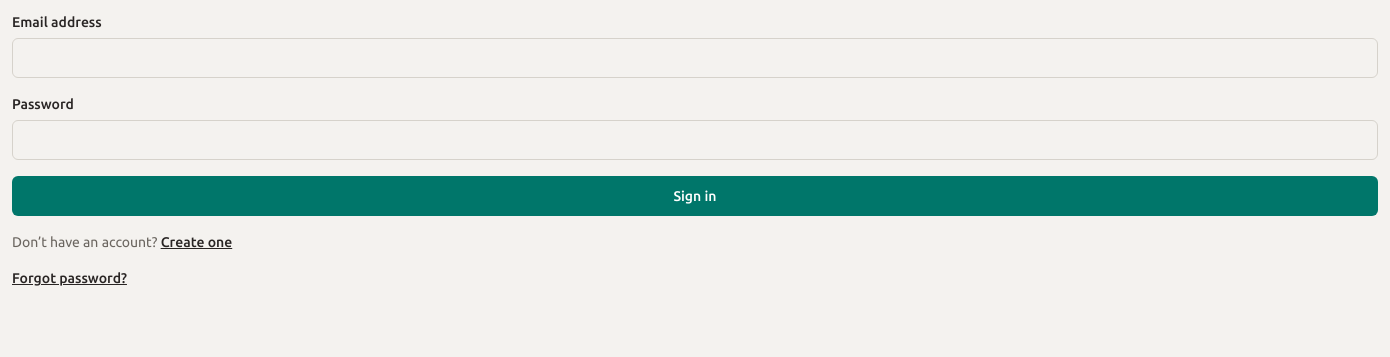
Test case: LoginForm › shows a GENERIC enumeration-safe error on any login failure (no field-specific leak)
The image size is (1390, 357).
In the field labelled "Email address": (695, 58) [12,38,1378,78], type "user@example.com"
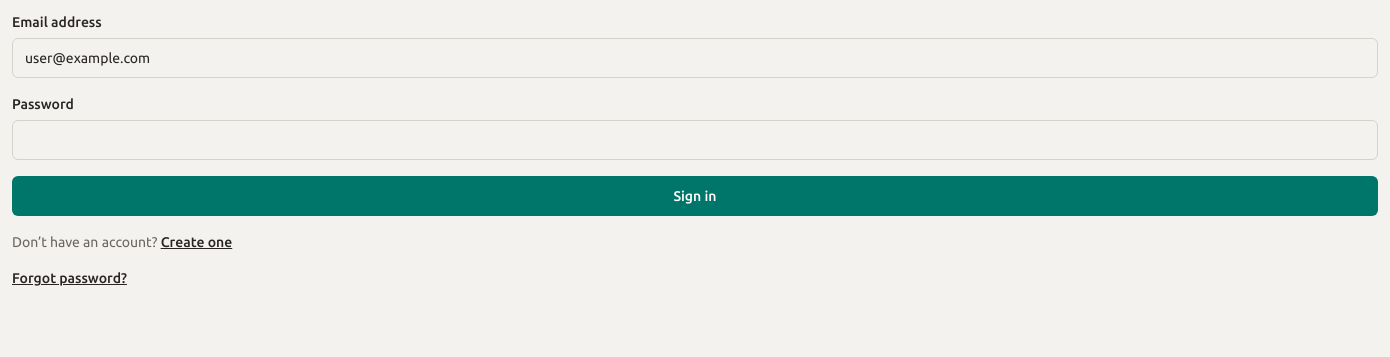
In the password field labelled "Password": (695, 140) [12,120,1378,160], type "wrong-password-x"
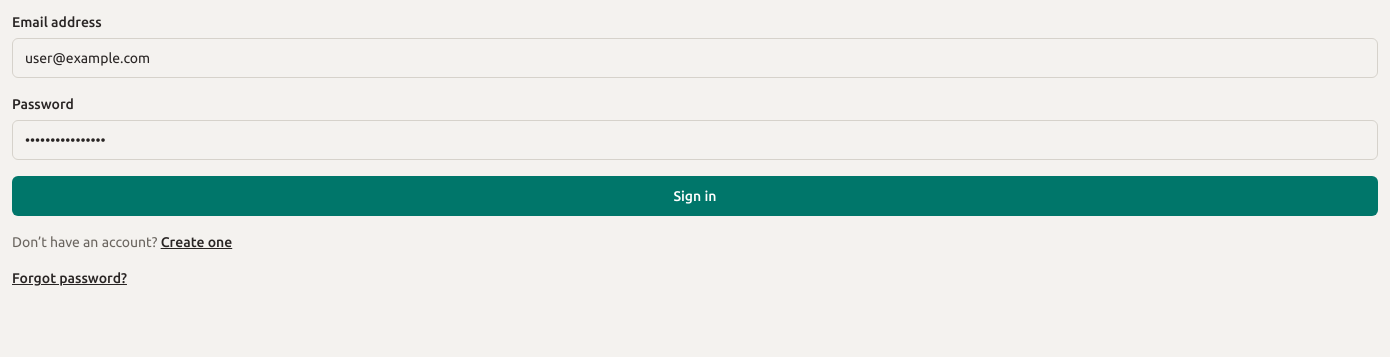
Click the button "Sign in": (695, 196) [12,176,1378,216]
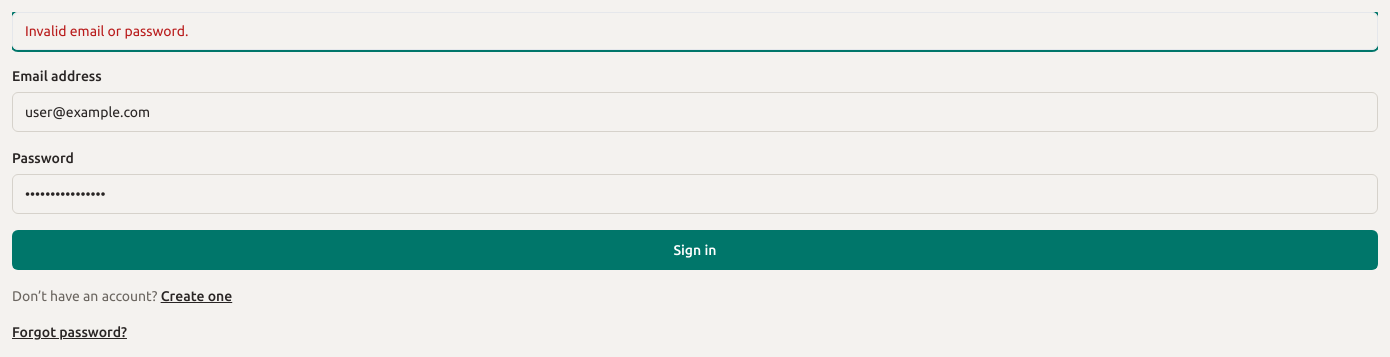
Expected: the button "Sign in" is enabled, [12,230,1378,270]
Now the message shows "Invalid email or password", box [25,23,189,39]
